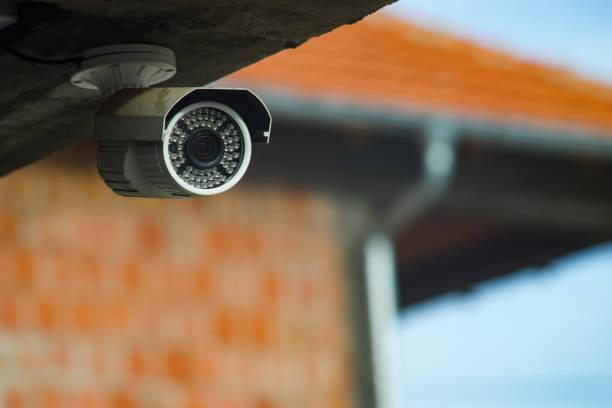camera: (80, 53, 286, 219)
